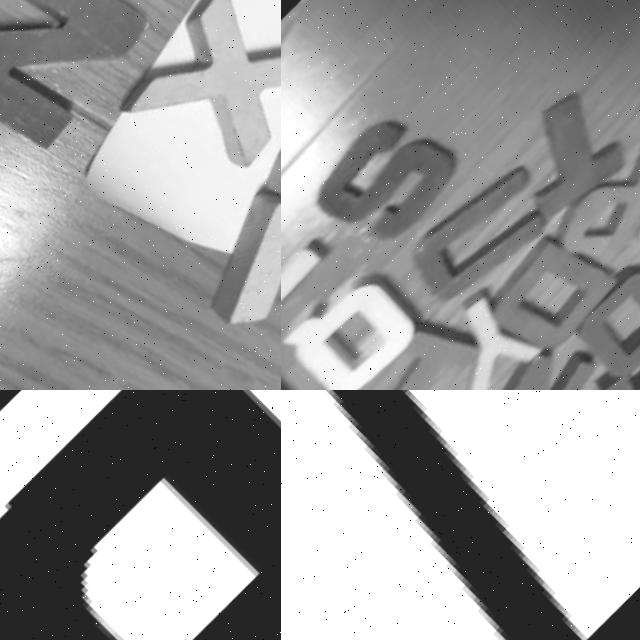A: (570, 320, 640, 390)
B: (0, 390, 281, 640)
C: (602, 118, 640, 287)
D: (465, 214, 628, 367)
I: (303, 303, 493, 390)
L: (185, 140, 281, 354)
N: (0, 0, 168, 174), (423, 314, 624, 390)
O: (547, 249, 640, 390)
P: (525, 110, 640, 287)
Q: (281, 250, 433, 390)
R: (243, 24, 281, 245)
S: (293, 87, 482, 264)
T: (281, 390, 640, 640), (480, 87, 630, 228)
U: (381, 147, 574, 327)
X: (96, 0, 281, 193)
Y: (395, 272, 553, 390)
Z: (281, 192, 321, 359)
